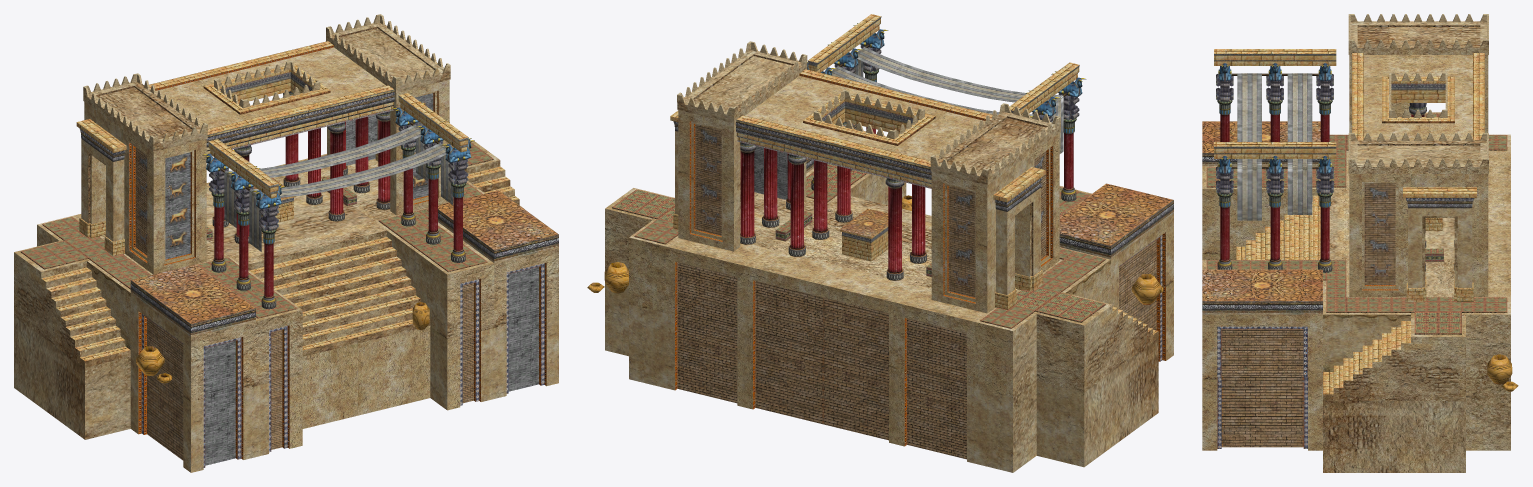
Rendered from pers_palace.glb.
3 views of the same model, side by side, from view 1: azimuth 30°, elevation 25°; view 2: azimuth 150°, elevation 25°; view 3: azimuth 270°, elevation 25° (orthographic). The views are drawn at different scales.
Size of the model in its own units: 38.77 by 22.03 by 23.08.
Materials: 1 (1 with a texture image).
